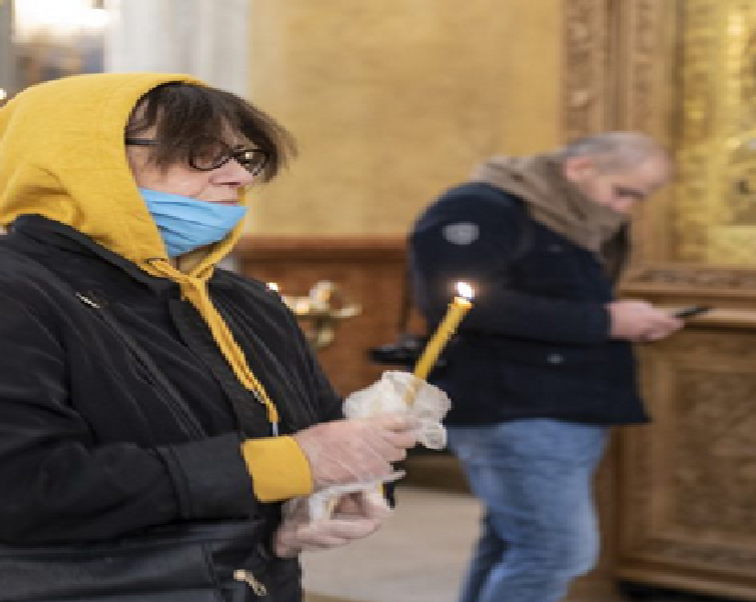mask_weared_incorrect: (1, 72, 274, 257)
